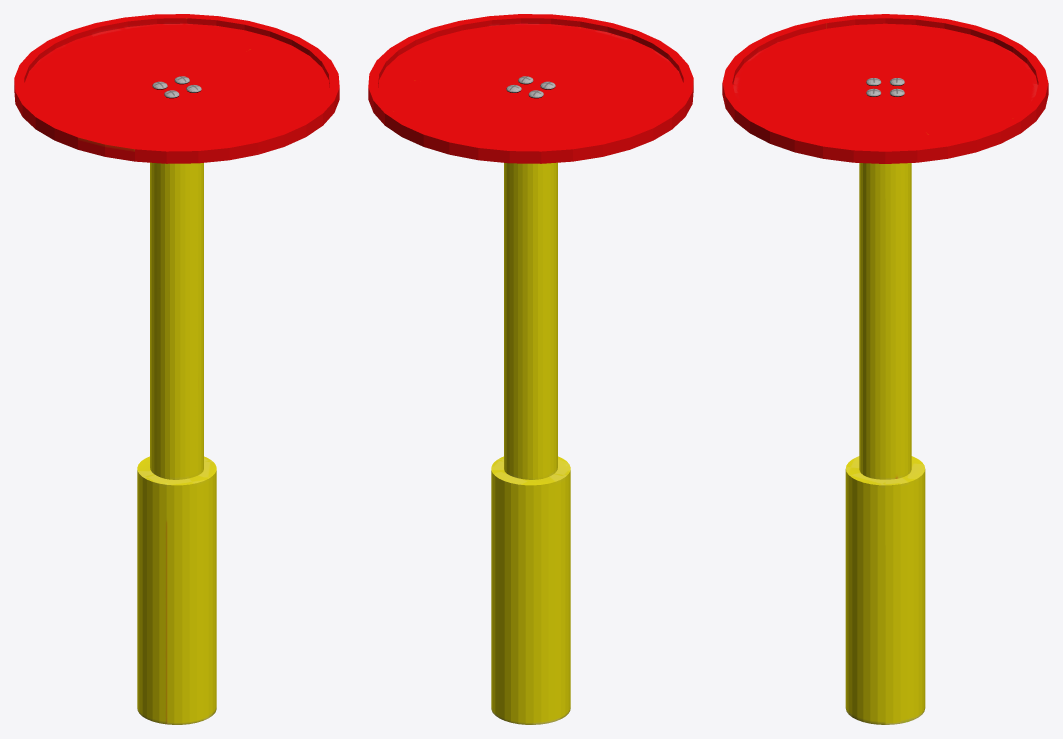
The model's file is tourniquet pilier texture.glb.
The picture shows the model from 3 angles, left to right: view 1: azimuth 30°, elevation 25°; view 2: azimuth 150°, elevation 25°; view 3: azimuth 270°, elevation 25°; orthographic projection.
Parts seen in each view (by area): view 1: Cube.002; view 2: Cube.002; view 3: Cube.002.
Boxes of the visible parts, left/top/right/bottom form: Cube.002: left=14, top=14, right=339, bottom=724; Cube.002: left=368, top=14, right=693, bottom=724; Cube.002: left=722, top=14, right=1048, bottom=724.
Size of the model in its own units: 0.3395 by 0.7185 by 0.3395.
2 materials, 2 textured.
